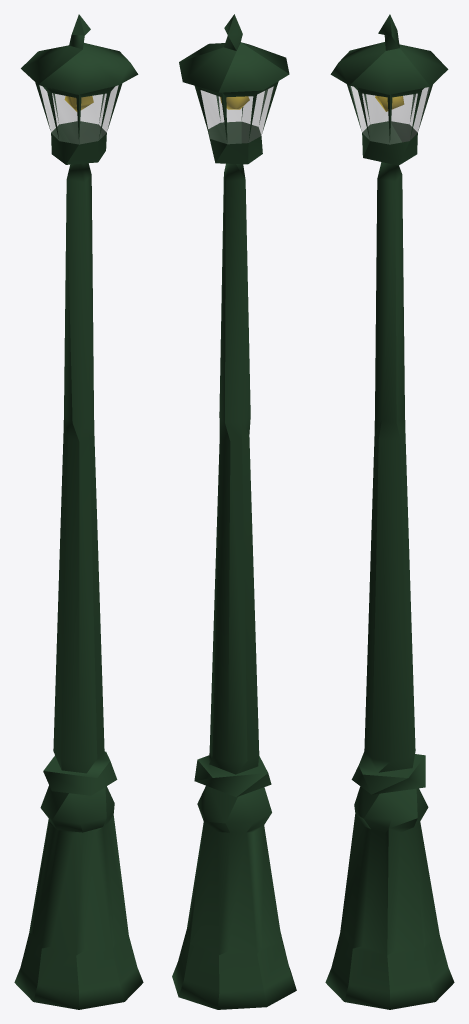
Rendered from lamp.glb.
The picture shows the model from 3 angles, left to right: view 1: azimuth 90°, elevation 25°; view 2: azimuth 210°, elevation 25°; view 3: azimuth 270°, elevation 25°; orthographic projection.
Visible parts, largest first — view 1: Streetlight_Single; view 2: Streetlight_Single; view 3: Streetlight_Single.
Boxes of the visible parts, x1,y1,x2,y2 form: Streetlight_Single: (14, 14, 143, 1009); Streetlight_Single: (172, 14, 296, 1009); Streetlight_Single: (325, 14, 454, 1009).
Size of the model in its own units: 0.6525 by 5.4 by 0.6525.
